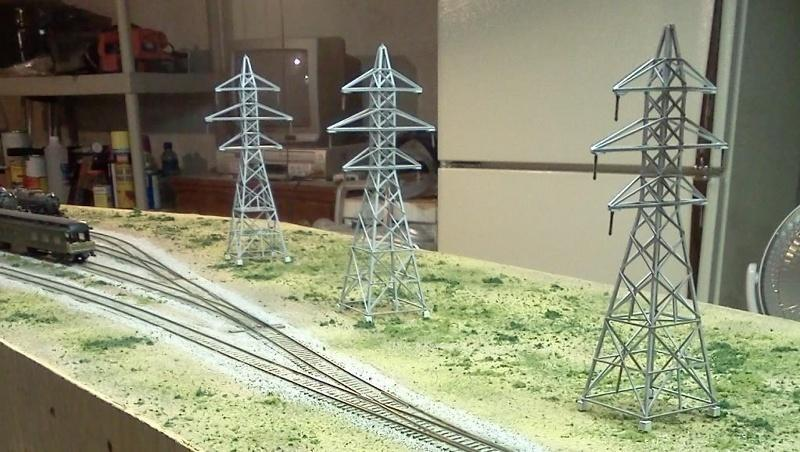power_tower: (579, 22, 730, 418), (326, 42, 438, 320), (203, 54, 294, 264)
